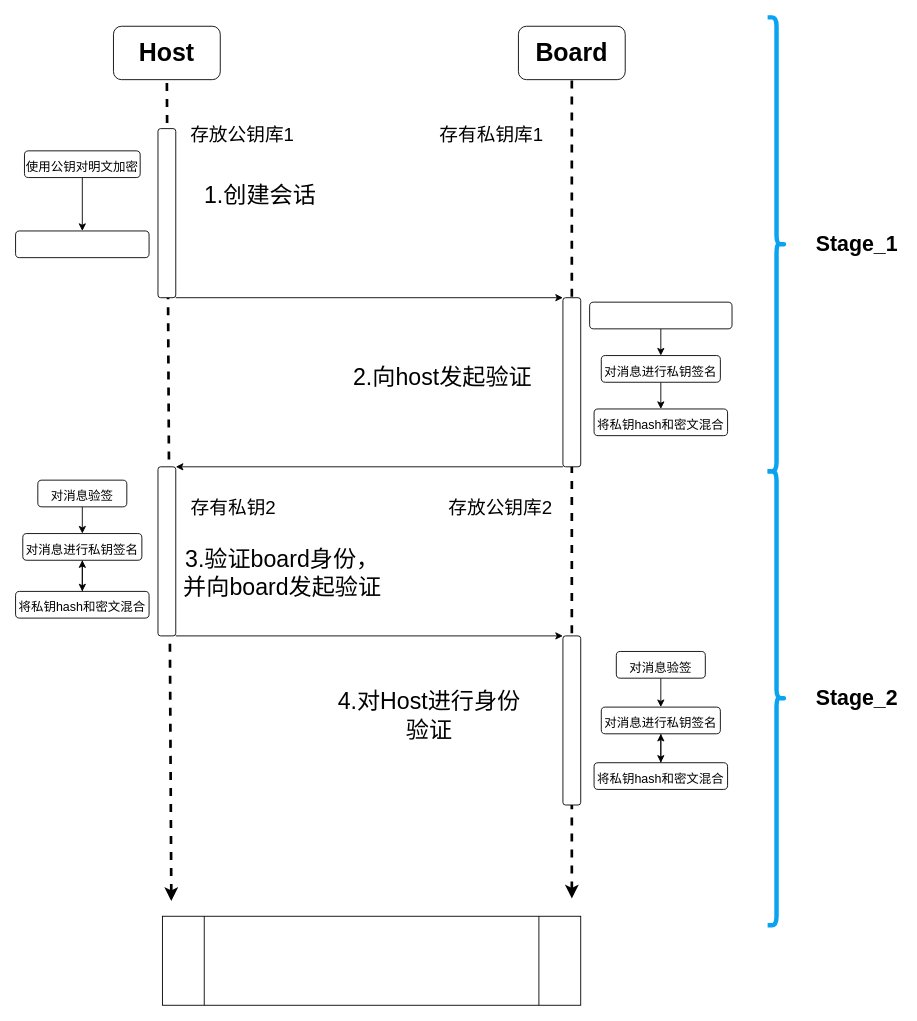
The diagram is 917 pixels wide and 1021 high, and some of its shapes have lost their labels. Here are the shapes that lost their labels. From the top down, the box of each, then its label:
(15, 230, 149, 258): 将密钥hash和密文混合
(589, 301, 732, 329): 解密获取公钥hash和明文
(162, 915, 581, 1005): 完成双方身份验证，Board端可以执行上位机传来的控制指令
